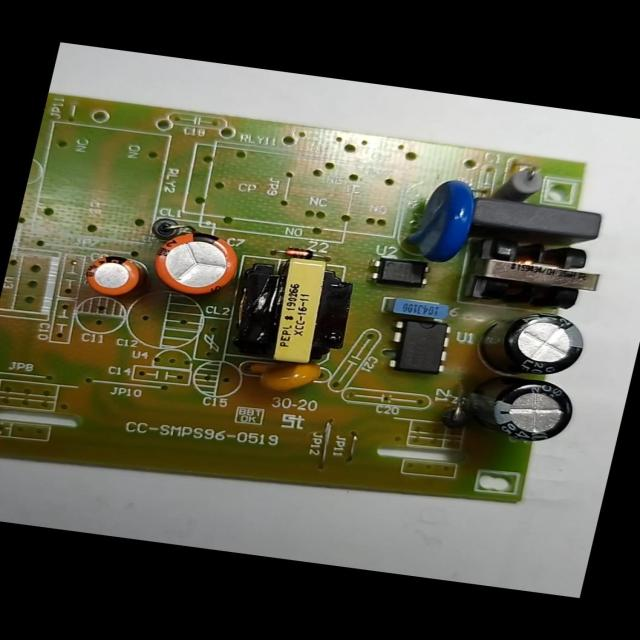Cap1: (150, 227, 243, 297)
Cap2: (84, 254, 144, 298)
Cap3: (472, 304, 593, 383)
Cap4: (463, 371, 581, 446)
MOSFET: (384, 316, 457, 378)
Mov: (398, 174, 482, 265)
Resistor: (490, 161, 545, 203)
Transformer: (228, 248, 362, 369), (465, 230, 609, 312)
